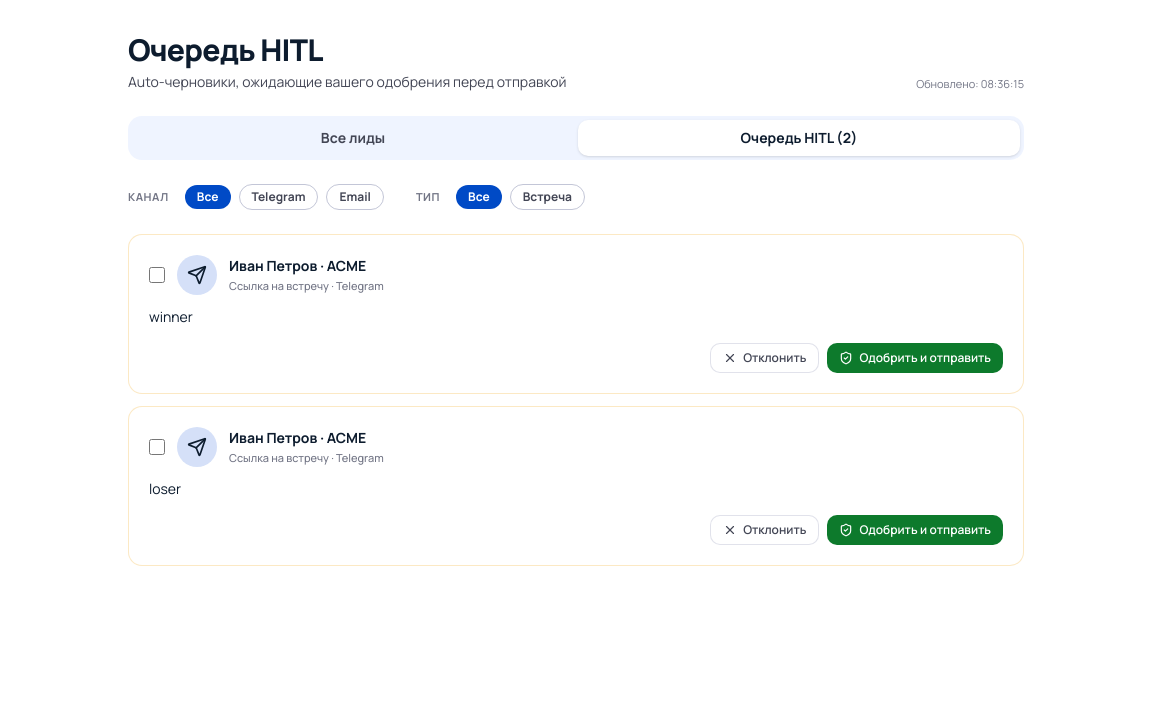
Test: InboxPendingPage › bulk partial failure leaves failed row visible with summary
The image size is (1152, 720).
Expected: the text "loser" is shown, 149,479 -> 181,498
Click the 1st checkbox named "Выбрать драфт для Иван Петров" at (157, 275), box 149,267 -> 165,283
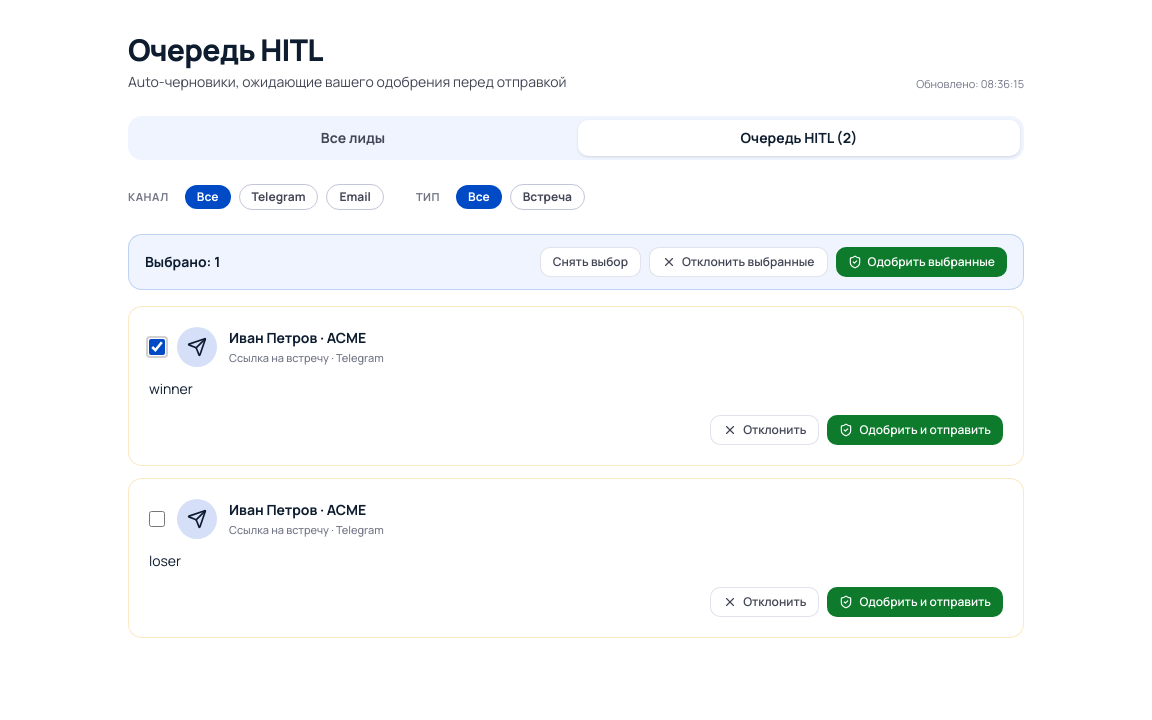
Click the 2nd checkbox named "Выбрать драфт для Иван Петров" at (157, 519), box 149,511 -> 165,527
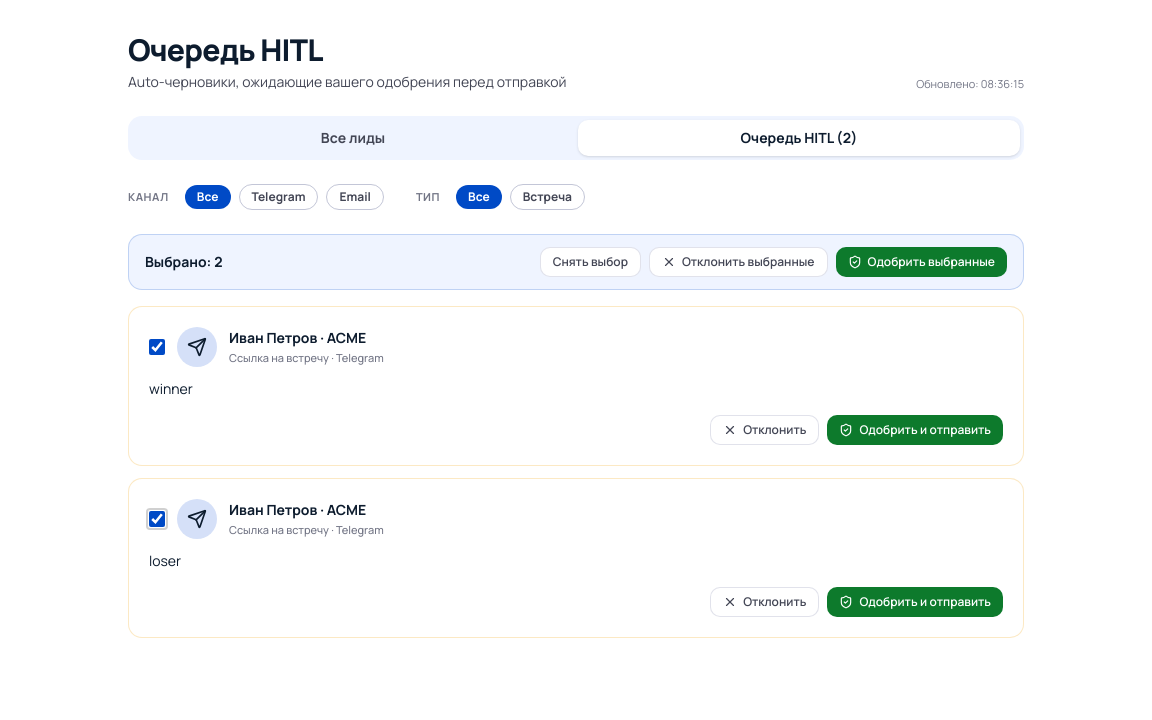
Click the button "Отклонить выбранные" at (738, 262), box 649,247 -> 828,277
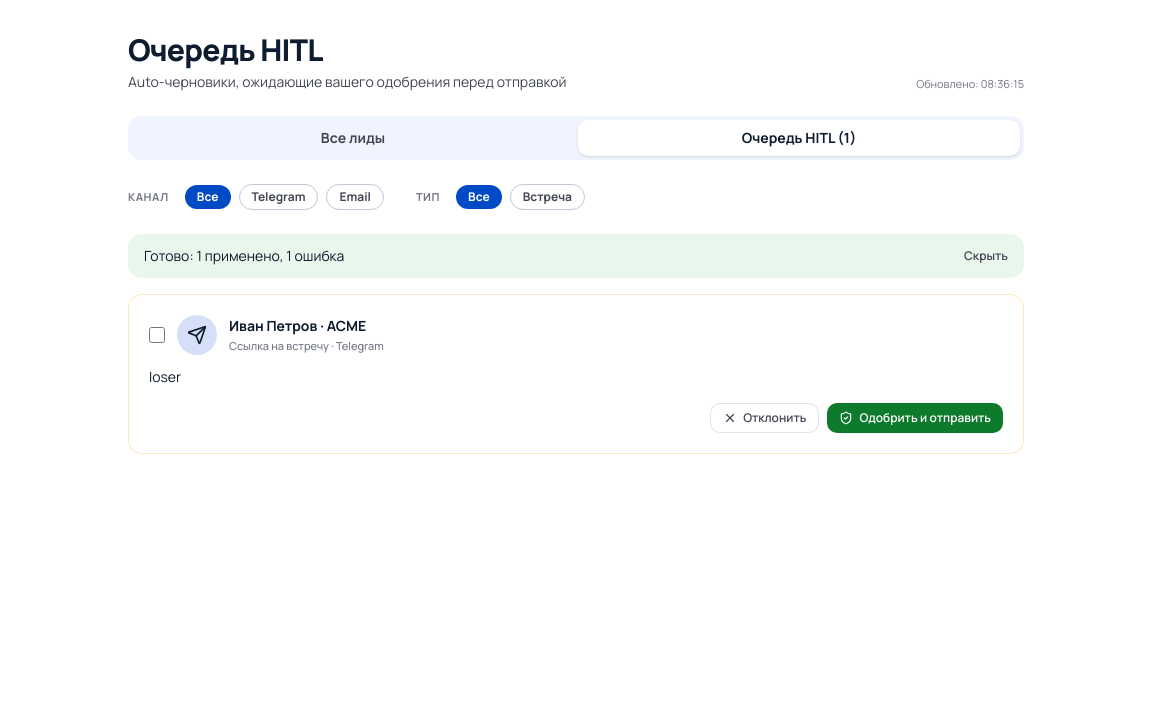
Expected: the text "loser" is shown, 149,367 -> 181,386
Expected: the text "winner" is gone
Expected: the text "Готово: 1 применено, 1 ошибка" is shown, 144,246 -> 344,266
